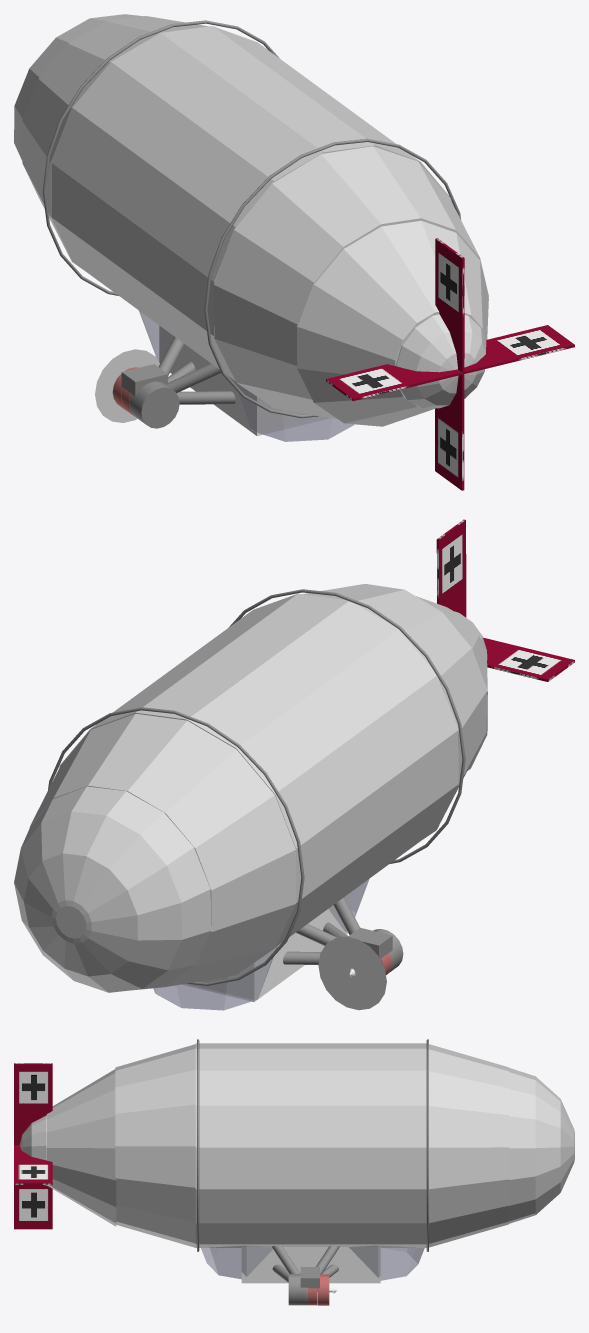
File: zepp.fbx
3 renders of one model, top to bottom at view 1: azimuth 30°, elevation 25°; view 2: azimuth 150°, elevation 25°; view 3: azimuth 270°, elevation 25°, orthographic. The views are drawn at different scales.
Visible parts, largest first — view 1: node6_node6, node5_node5, node2_node2, node7_node7, node3_node3, node4_node4; view 2: node6_node6, node2_node2, node5_node5, node4_node4, node7_node7, node3_node3; view 3: node6_node6, node5_node5, node3_node3, node7_node7, node2_node2, node1_node1.
Part boxes in pixels (left/top/right/bottom): node6_node6: left=14, top=14, right=488, bottom=426; node5_node5: left=326, top=238, right=574, bottom=490; node2_node2: left=42, top=20, right=460, bottom=428; node7_node7: left=139, top=311, right=354, bottom=441; node3_node3: left=159, top=326, right=329, bottom=435; node4_node4: left=95, top=349, right=159, bottom=422; node6_node6: left=14, top=583, right=487, bottom=992; node2_node2: left=48, top=589, right=465, bottom=985; node5_node5: left=436, top=519, right=574, bottom=681; node4_node4: left=318, top=936, right=386, bottom=1010; node7_node7: left=153, top=879, right=369, bottom=1010; node3_node3: left=183, top=892, right=355, bottom=1001; node6_node6: left=19, top=1043, right=574, bottom=1247; node5_node5: left=14, top=1063, right=52, bottom=1229; node3_node3: left=241, top=1247, right=380, bottom=1293; node7_node7: left=201, top=1245, right=424, bottom=1280; node2_node2: left=197, top=1039, right=428, bottom=1305; node1_node1: left=308, top=1274, right=329, bottom=1305.
Bounding box in the file's own units: 4664 × 4914 × 10936.
7 materials, 1 textured.
